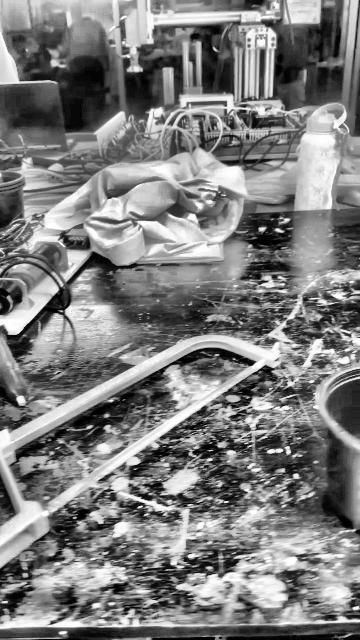pot: (316, 363, 359, 531), (1, 173, 27, 233)
